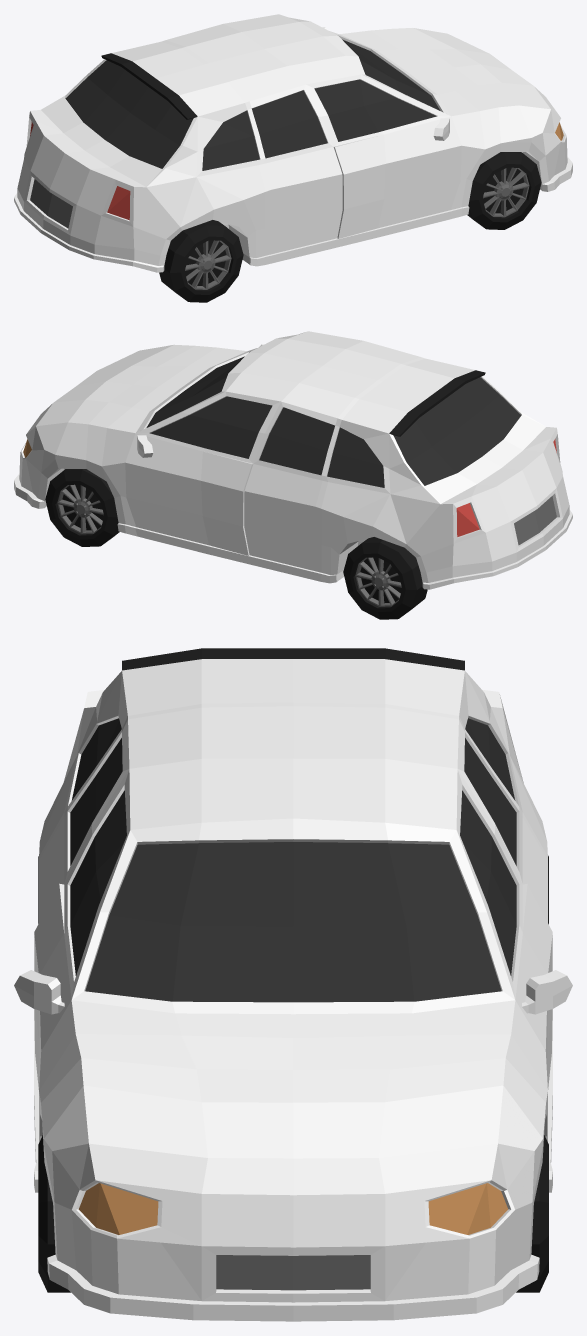
The model's file is sedan_filler.glb.
3 views of the same model, one above another, from view 1: azimuth 30°, elevation 25°; view 2: azimuth 150°, elevation 25°; view 3: azimuth 270°, elevation 25° (orthographic). The views are drawn at different scales.
Parts seen in each view (by area): view 1: NormalCar2_Cube.002, NormalCar2_BackWheels_Cylinder.003, NormalCar2_FrontRightWheel_Cylinder.016; view 2: NormalCar2_Cube.002, NormalCar2_BackWheels_Cylinder.003, NormalCar2_FrontLeftWheel_Cylinder.015; view 3: NormalCar2_Cube.002, NormalCar2_FrontLeftWheel_Cylinder.015, NormalCar2_FrontRightWheel_Cylinder.016.
Part boxes in pixels (left/top/right/bottom): NormalCar2_Cube.002: left=14, top=14, right=572, bottom=272; NormalCar2_BackWheels_Cylinder.003: left=159, top=220, right=243, bottom=302; NormalCar2_FrontRightWheel_Cylinder.016: left=467, top=152, right=541, bottom=229; NormalCar2_Cube.002: left=14, top=331, right=572, bottom=589; NormalCar2_BackWheels_Cylinder.003: left=343, top=537, right=427, bottom=619; NormalCar2_FrontLeftWheel_Cylinder.015: left=45, top=469, right=119, bottom=546; NormalCar2_Cube.002: left=14, top=648, right=572, bottom=1321; NormalCar2_FrontLeftWheel_Cylinder.015: left=516, top=1135, right=548, bottom=1292; NormalCar2_FrontRightWheel_Cylinder.016: left=38, top=1135, right=70, bottom=1292.
Size of the model in its own units: 4.6 by 1.59 by 2.28.
